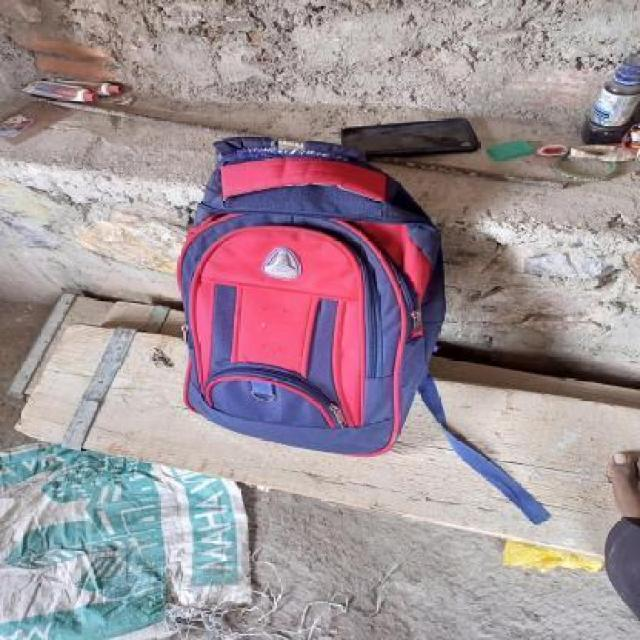backpack: (172, 132, 450, 463)
